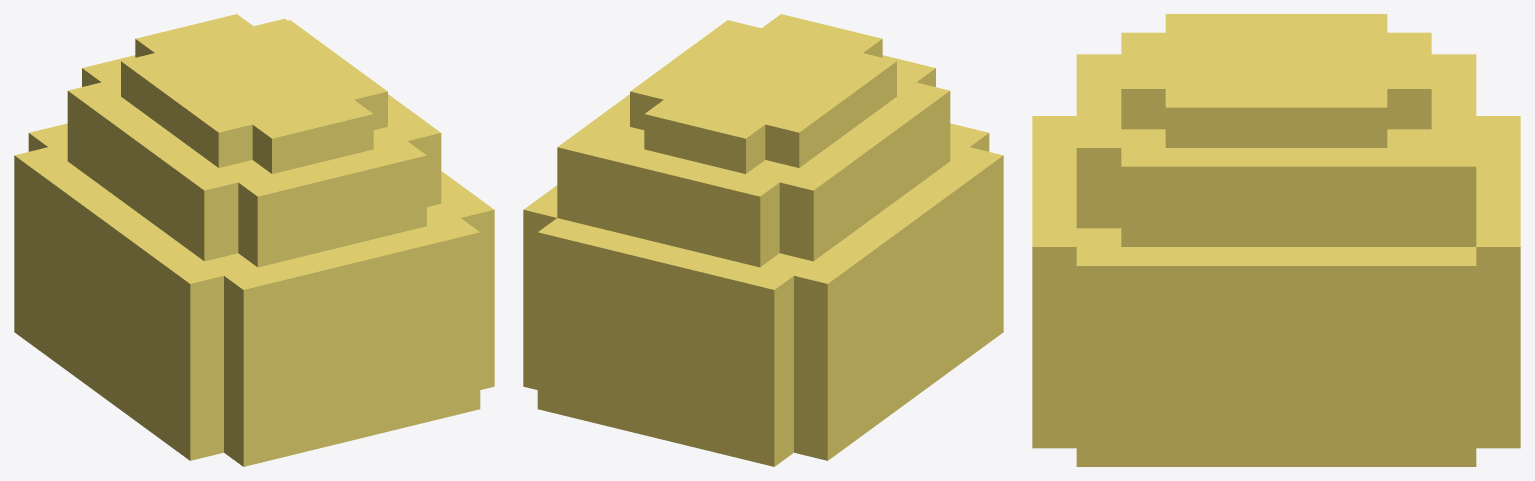
File: Matojo_2.fbx
3 renders of one model, left to right at view 1: azimuth 30°, elevation 25°; view 2: azimuth 150°, elevation 25°; view 3: azimuth 270°, elevation 25°, orthographic. The views are drawn at different scales.
Parts seen in each view (by area): view 1: matojo_2_9x8x11; view 2: matojo_2_9x8x11; view 3: matojo_2_9x8x11.
Part boxes in pixels (box(x1,y1,x2,y2)): matojo_2_9x8x11: box(14, 14, 494, 466); matojo_2_9x8x11: box(523, 14, 1003, 466); matojo_2_9x8x11: box(1032, 14, 1520, 466).
Size of the model in its own units: 900 by 800 by 1100.
